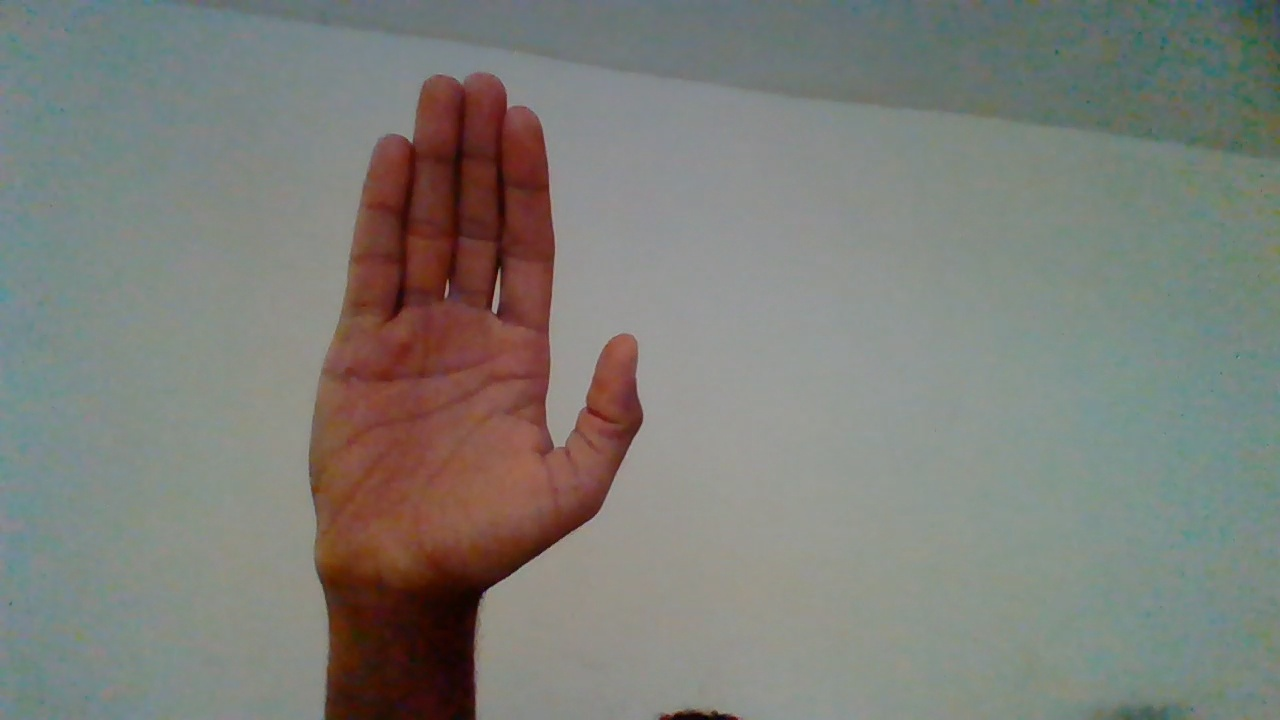ha: (313, 69, 651, 657)
